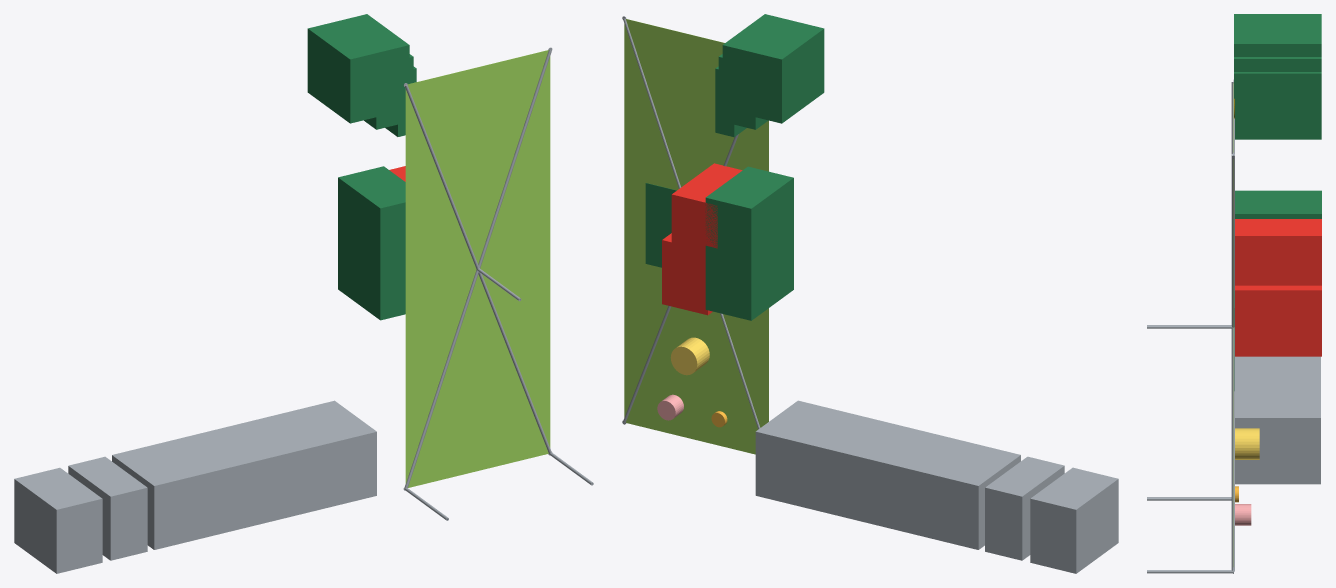
Rendered from Standee chân chữ X 60 x 160.obj.
The picture shows the model from 3 angles, left to right: view 1: azimuth 30°, elevation 25°; view 2: azimuth 150°, elevation 25°; view 3: azimuth 270°, elevation 25°; orthographic projection. The views are drawn at different scales.
Parts seen in each view (by area): view 1: bannergreen, khoi, rectgreen; view 2: khoi, bannergreen, rectgreen, redtext, cupyellow; view 3: rectgreen, khoi, redtext, cupyellow, bannergreen, cuppink.
Boxes of the visible parts, x1,y1,x2,y2 form: bannergreen: (405,50,550,487); khoi: (14,47,593,573); rectgreen: (307,14,416,320); khoi: (622,16,1118,573); bannergreen: (624,19,768,454); rectgreen: (645,14,824,320); redtext: (662,163,742,315); cupyellow: (670,337,709,375); rectgreen: (1234,14,1321,390); khoi: (1147,79,1320,573); redtext: (1235,219,1321,356); cupyellow: (1235,428,1259,459); bannergreen: (1233,83,1233,566); cuppink: (1235,504,1251,525).
Size of the model in its own units: 2.06 by 1.76 by 0.6078.
